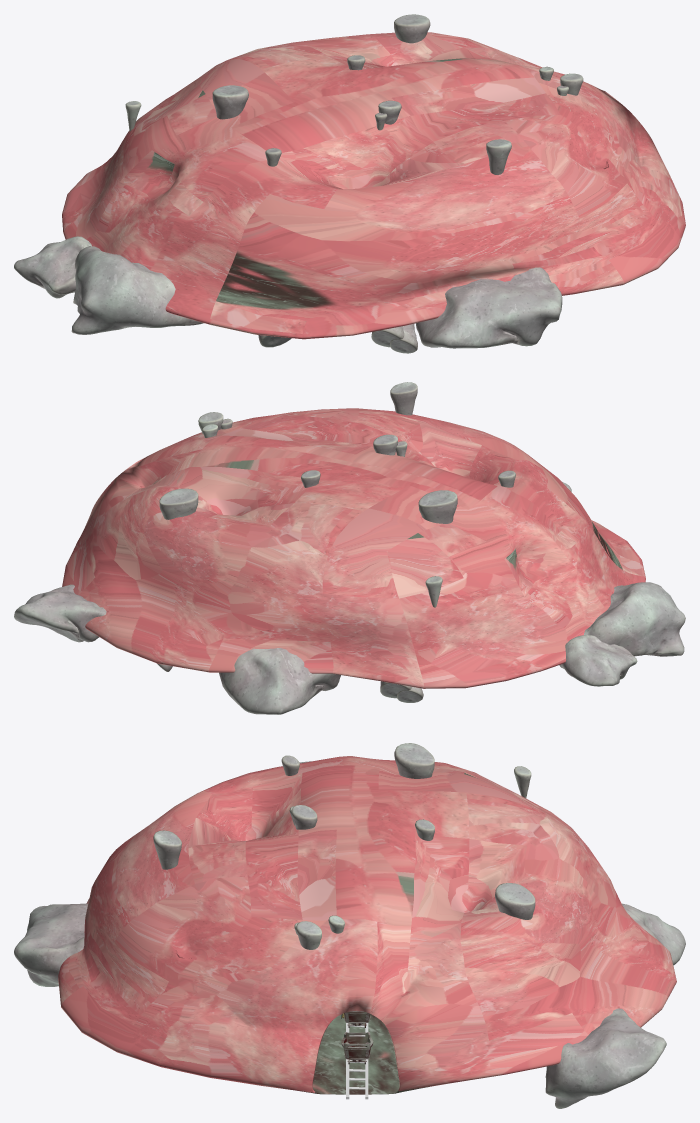
The model's file is peshtera1.fbx.
The picture shows the model from 3 angles, top to bottom: view 1: azimuth 30°, elevation 25°; view 2: azimuth 150°, elevation 25°; view 3: azimuth 270°, elevation 25°; orthographic projection. The views are drawn at different scales.
Visible parts, largest first — view 1: Cube, Retopo_Rock_2.001, Retopo_Rock_2.003, Retopo_Circle.005, Retopo_Rock_2.004; view 2: Cube, Retopo_Circle.005, Retopo_Rock_2.007, Retopo_Rock_2.003, Retopo_Rock_2.193, Retopo_Rock_2.004; view 3: Cube, Retopo_Rock_2.193, Retopo_Circle.005, Retopo_Rock_2.001, Retopo_Rock_2.007, pasted__pCube3.001, Cube.002.
Boxes of the visible parts, box(x1,y1,x2,y2) form: Cube: box(62, 32, 685, 339); Retopo_Rock_2.001: box(415, 267, 562, 348); Retopo_Rock_2.003: box(71, 246, 203, 334); Retopo_Circle.005: box(125, 14, 583, 353); Retopo_Rock_2.004: box(14, 236, 91, 298); Cube: box(62, 408, 645, 688); Retopo_Circle.005: box(157, 382, 515, 702); Retopo_Rock_2.007: box(219, 648, 340, 714); Retopo_Rock_2.003: box(584, 582, 685, 656); Retopo_Rock_2.193: box(14, 584, 106, 642); Retopo_Rock_2.004: box(559, 635, 637, 686); Cube: box(58, 756, 676, 1094); Retopo_Rock_2.193: box(545, 1008, 666, 1108); Retopo_Circle.005: box(153, 743, 535, 949); Retopo_Rock_2.001: box(14, 903, 87, 986); Retopo_Rock_2.007: box(622, 903, 685, 965); pasted__pCube3.001: box(341, 1032, 373, 1064); Cube.002: box(346, 1023, 368, 1099).
Bounding box in the file's own units: 10500 × 3090 × 9664.
